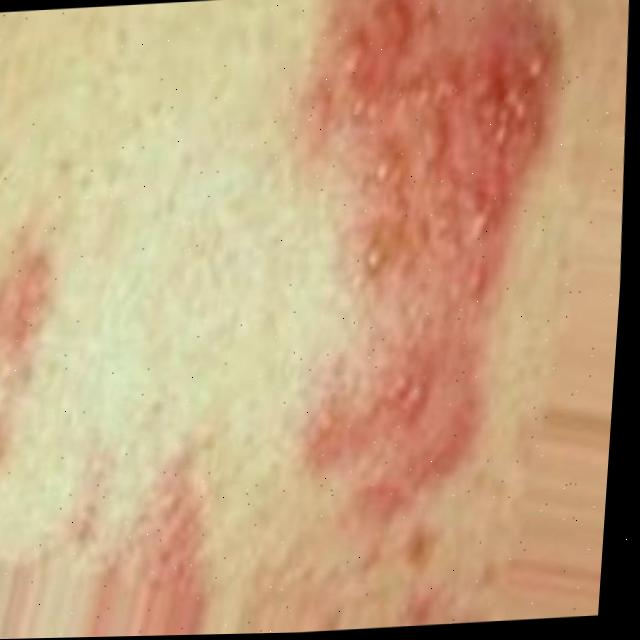Shingles: (276, 0, 578, 531), (120, 489, 203, 574), (0, 254, 49, 371)
